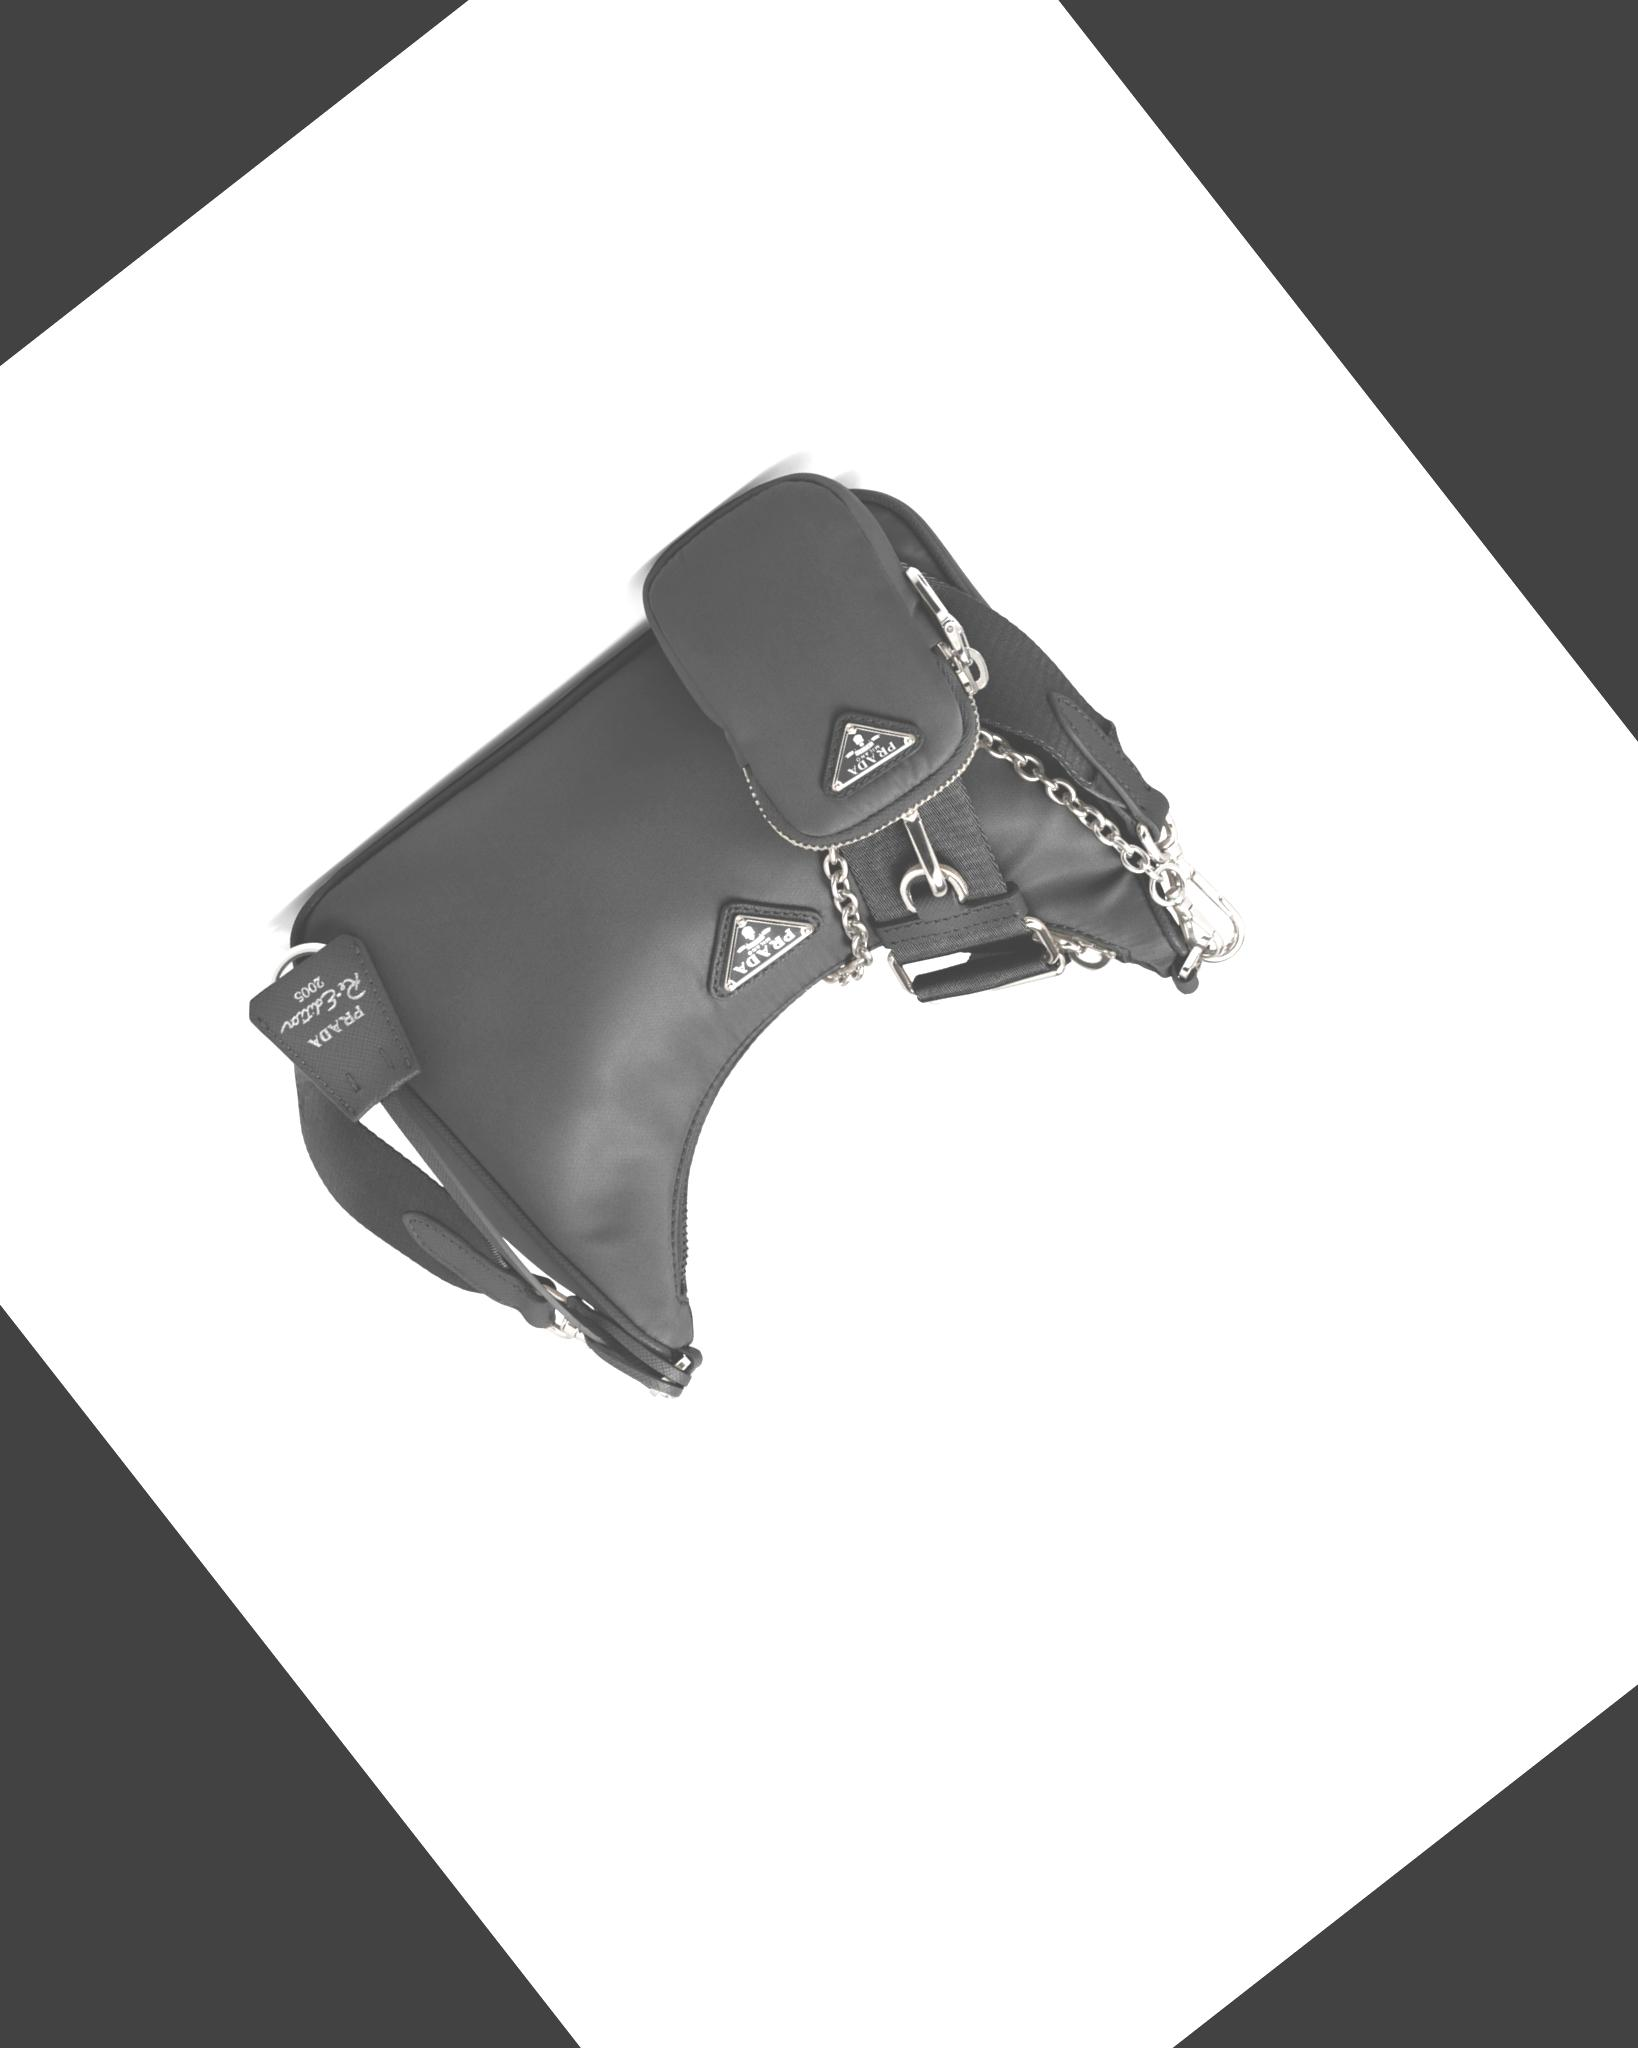PRADA: (692, 881, 814, 995), (802, 694, 916, 801)
